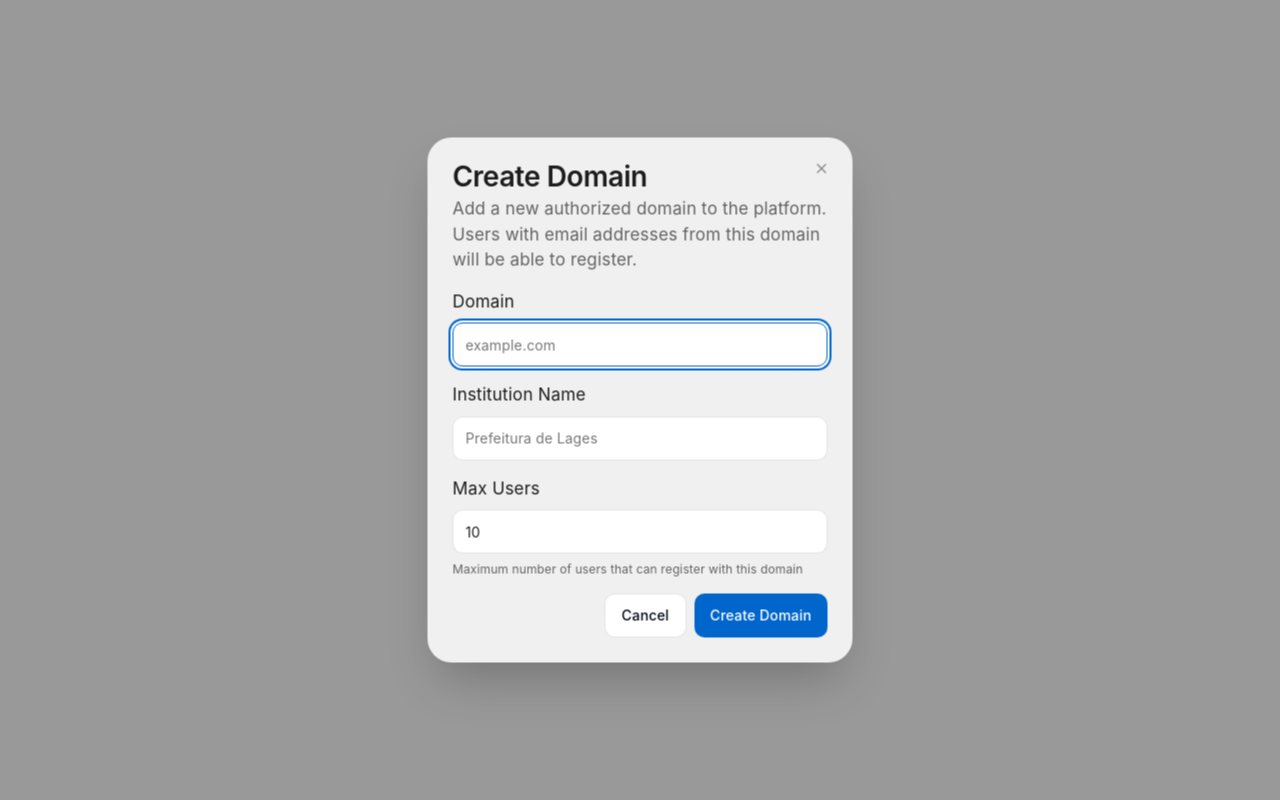
Test: CreateDomainDialog › Validation › should show error for domain too short
The image size is (1280, 800).
Step 1. Type "ab" into the field labelled "Domain" → (640, 344), box [452,322,828,366]
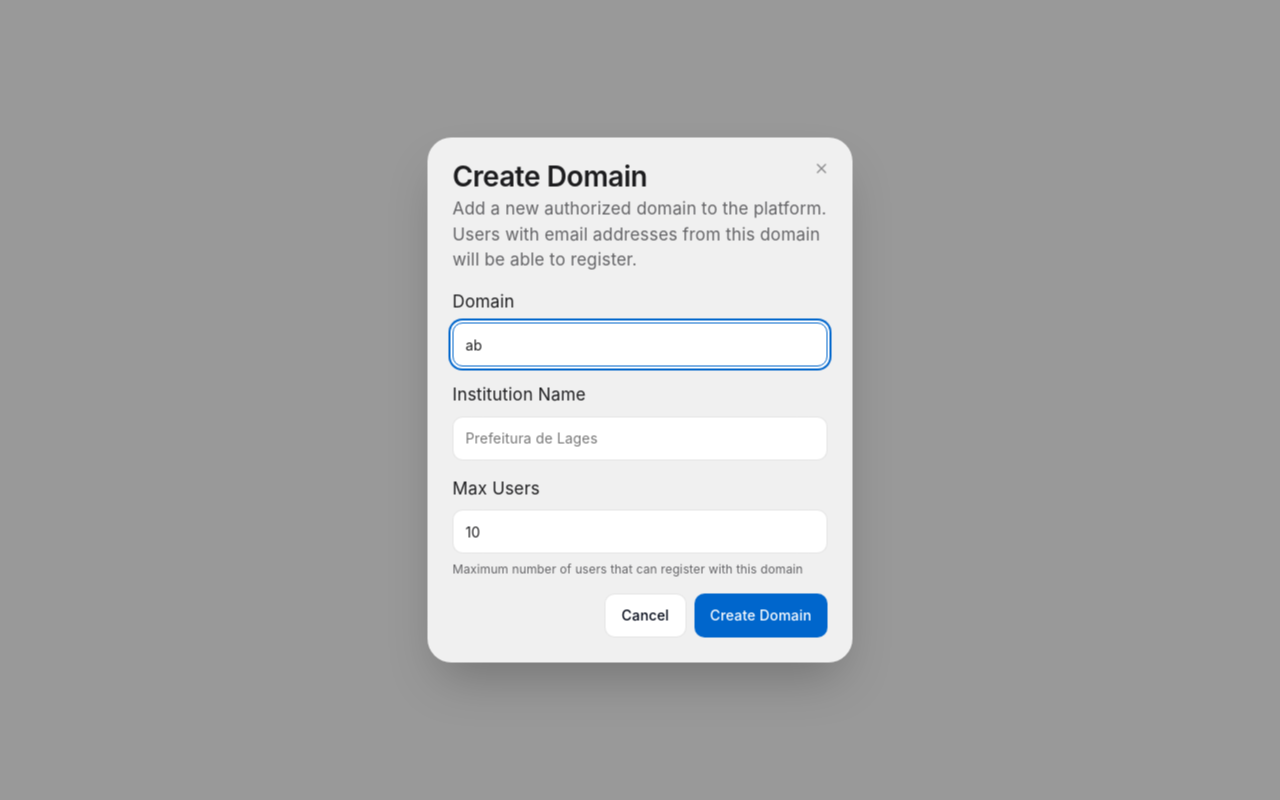
Step 2. Click the button "Create Domain" → (761, 616), box [694,594,828,638]
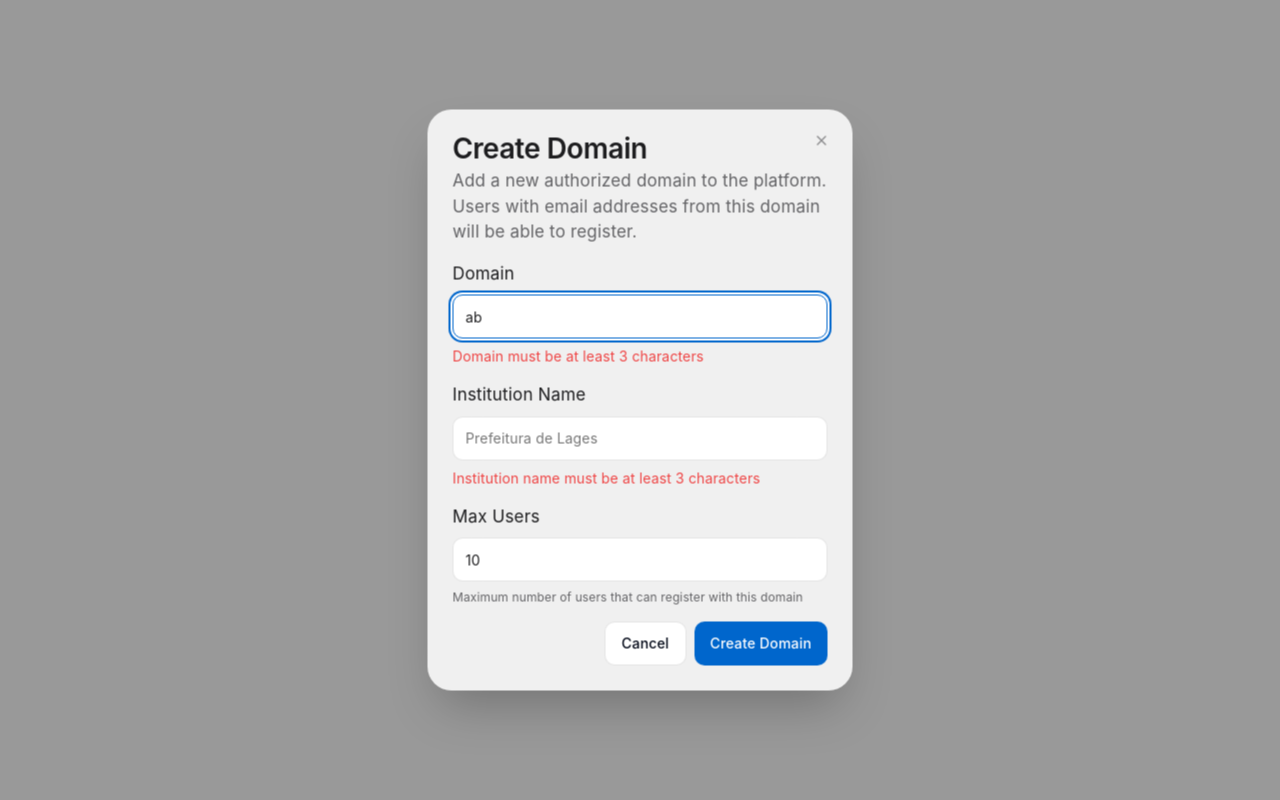
Check: the text "Domain must be at least 3 characters" is shown, box [452,348,704,364]
